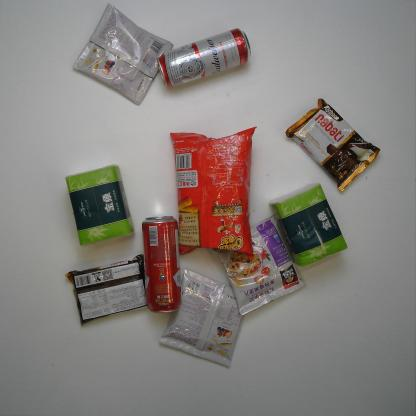Alcohol: (154, 27, 253, 89), (140, 214, 182, 314)
Dessert: (284, 97, 381, 193), (64, 254, 149, 326)
Instant Drink: (72, 2, 174, 105), (211, 214, 308, 317), (158, 266, 243, 368)
Puffed Food: (167, 124, 260, 264)
Tissue: (268, 182, 349, 269), (63, 162, 136, 246)
